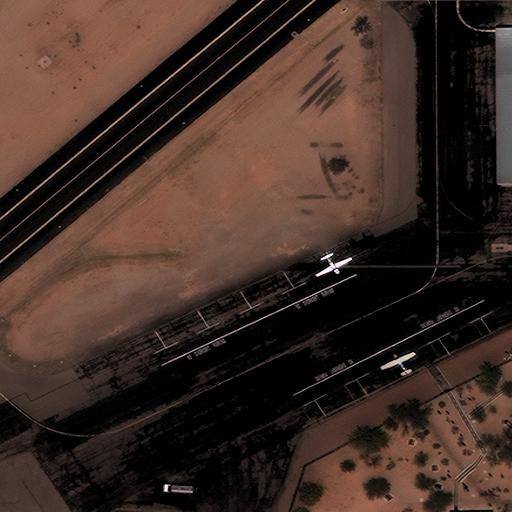Small Civil Transport: (316, 254, 352, 276), (380, 351, 412, 374)
